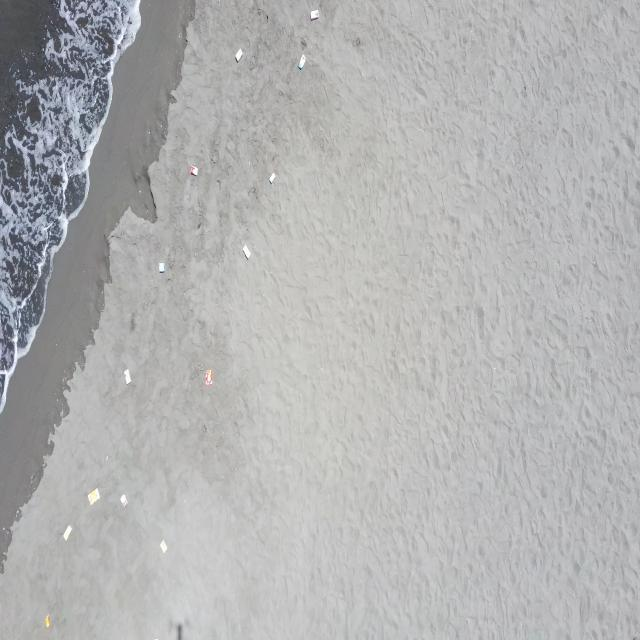Garbage: (88, 487, 99, 504), (63, 524, 71, 540), (123, 368, 131, 384), (204, 368, 212, 384), (188, 164, 198, 175), (44, 613, 51, 627), (160, 539, 167, 552), (120, 493, 127, 506), (243, 243, 249, 258), (311, 8, 318, 20), (298, 55, 304, 68), (268, 172, 275, 183), (235, 48, 240, 60), (158, 261, 163, 272), (104, 455, 108, 460)
